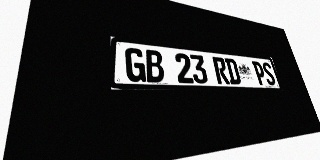2: (174, 52, 194, 83)
3: (189, 54, 208, 84)
B: (144, 49, 165, 83)
D: (224, 58, 242, 84)
G: (125, 47, 146, 82)
P: (251, 61, 268, 85)
R: (212, 57, 230, 84)
S: (261, 62, 277, 85)
